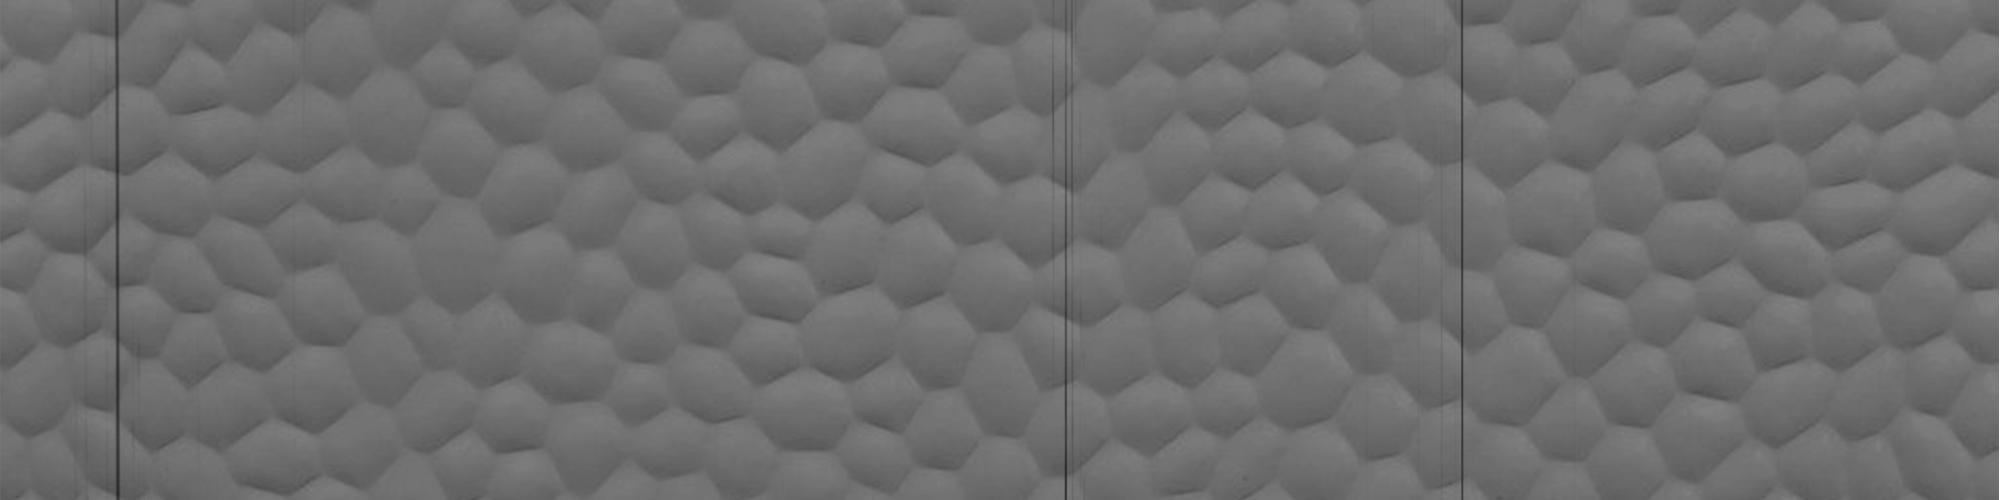DieDrag: (1040, 4, 1087, 500), (94, 0, 136, 497), (1443, 3, 1482, 499)
